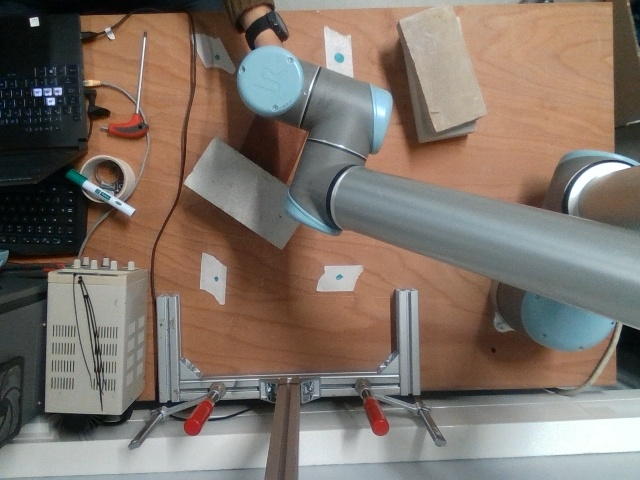brick: (397, 4, 486, 131)
